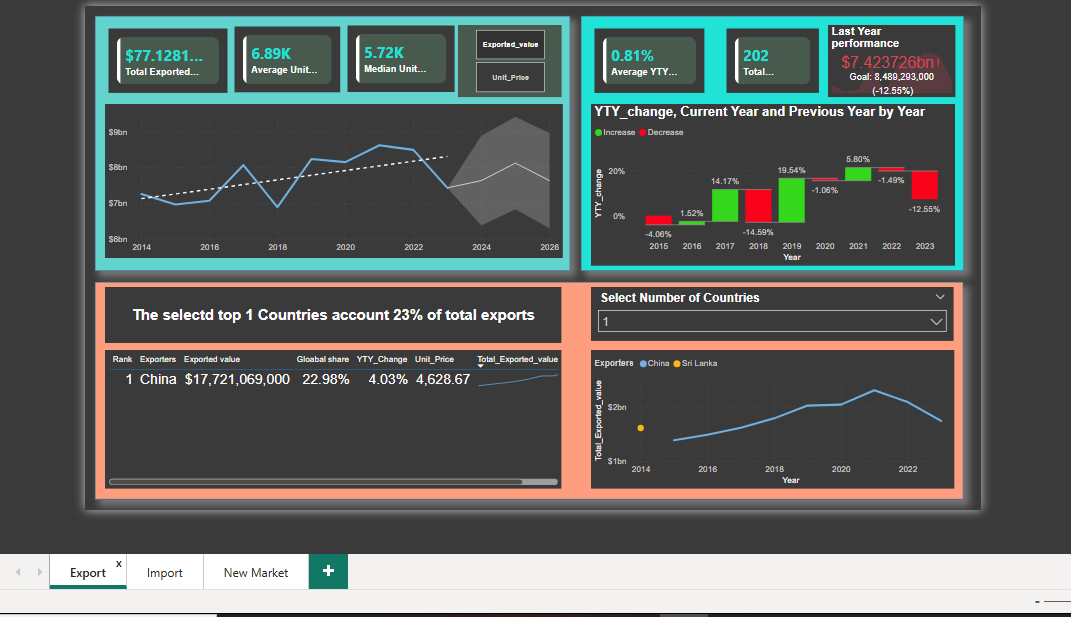

The dashboard page shown, as its layout file describes it:
{"tool":"powerbi","page":{"name":"Export ","canvas":[1280,720],"ordinal":0},"visuals":[{"type":"shape","box":[14.9,14.9,678.7,363.8],"z":0},{"type":"cardVisual","title":"Measure","fields":{"Data":["Exporters1.Total_Exported_value"]},"box":[27.9,26.4,180.7,102.9],"z":1000},{"type":"cardVisual","title":"Measure","fields":{"Data":["Exporters1.Average_Unit_Price"]},"box":[208.7,25,161.6,104.3],"z":2000},{"type":"cardVisual","title":"Measure","fields":{"Data":["Exporters1.Median_Unit_Price"]},"box":[370.3,23.5,163.1,105.8],"z":3000},{"type":"lineChart","fields":{"Y":["Exporters1.Total_Exported_value"],"Category":["Exporters1.Year.Variation.Date Hierarchy.Year"]},"box":[27.9,139.6,653.9,220.4],"z":4000},{"type":"slicer","fields":{"Values":["Exported Value &Unite Price.Exported Value &Unite Price"]},"box":[533.4,26.4,148.4,102.9],"z":5000},{"type":"shape","box":[14.9,393.6,1240.4,310.6],"z":6000},{"type":"shape","box":[708.5,14.9,546.8,363.8],"z":7000},{"type":"waterfallChart","fields":{"Y":["Exporters1.YTY_change"],"Category":["Exporters1.Year"]},"box":[722.9,139.6,520.2,230.7],"z":8000},{"type":"kpi","title":"Last Year performance","fields":{"Indicator":["Exporters1.Total_Exported_value"],"Goal":["Exporters1.PreviesYear_value"],"TrendLine":["Exporters1.Year"]},"box":[1060.9,26.4,182.2,102.9],"z":9000},{"type":"cardVisual","fields":{"Data":["Exporters1.Average_YTY_Change"]},"box":[722.9,26.4,167.5,102.9],"z":10000},{"type":"cardVisual","fields":{"Data":["Exporters1.Total_Exporters"]},"box":[911,26.4,142.5,102.9],"z":11000},{"type":"card","fields":{"Values":["Exporters1._text"]},"box":[29.2,401.5,652.3,80],"z":12000},{"type":"slicer","fields":{"Values":["Top.Value"]},"box":[723.1,401.5,518.5,76.9],"z":13000},{"type":"tableEx","fields":{"Values":["Exporters1.Exporters_Rank","Exporters1.Exporters","Exporters1.Total_Exported_value","Exporters1.Gloabal_share","Exporters1.Average_YTY_Change","Exporters1.Average_Unit_Price","SparklineData(Exporters1.Total_Exported_value_[Exporters1.Year.Variation.Date Hierarchy.Year])"]},"box":[29.2,490.8,652.3,198.5],"z":14000},{"type":"lineChart","title":"LineChart","fields":{"Y":["Exporters1.Total_Exported_value"],"Series":["Exporters1.Exporters"],"Category":["Exporters1.Year"]},"box":[723.4,491.5,519.1,197.9],"z":15000}]}

Visuals, with their boxes on the page's 1280x720 design canvas (x1, y1, x2, y2). These are canvas units, not pixel positions in the 1071x617 screenshot, which may show the page scaled, cropped or inside an application window:
shape: [15, 15, 694, 379]
"Measure" cardVisual: [28, 26, 209, 129]
"Measure" cardVisual: [209, 25, 370, 129]
"Measure" cardVisual: [370, 24, 533, 129]
lineChart - Exporters1.Total_Exported_value x Exporters1.Year.Variation.Date Hierarchy.Year: [28, 140, 682, 360]
slicer - Exported Value &Unite Price.Exported Value &Unite Price: [533, 26, 682, 129]
shape: [15, 394, 1255, 704]
shape: [708, 15, 1255, 379]
waterfallChart - Exporters1.YTY_change x Exporters1.Year: [723, 140, 1243, 370]
"Last Year performance" kpi: [1061, 26, 1243, 129]
cardVisual - Exporters1.Average_YTY_Change: [723, 26, 890, 129]
cardVisual - Exporters1.Total_Exporters: [911, 26, 1054, 129]
card - Exporters1._text: [29, 402, 682, 482]
slicer - Top.Value: [723, 402, 1242, 478]
tableEx - Exporters1.Exporters_Rank x Exporters1.Exporters: [29, 491, 682, 689]
"LineChart" lineChart: [723, 492, 1242, 689]
